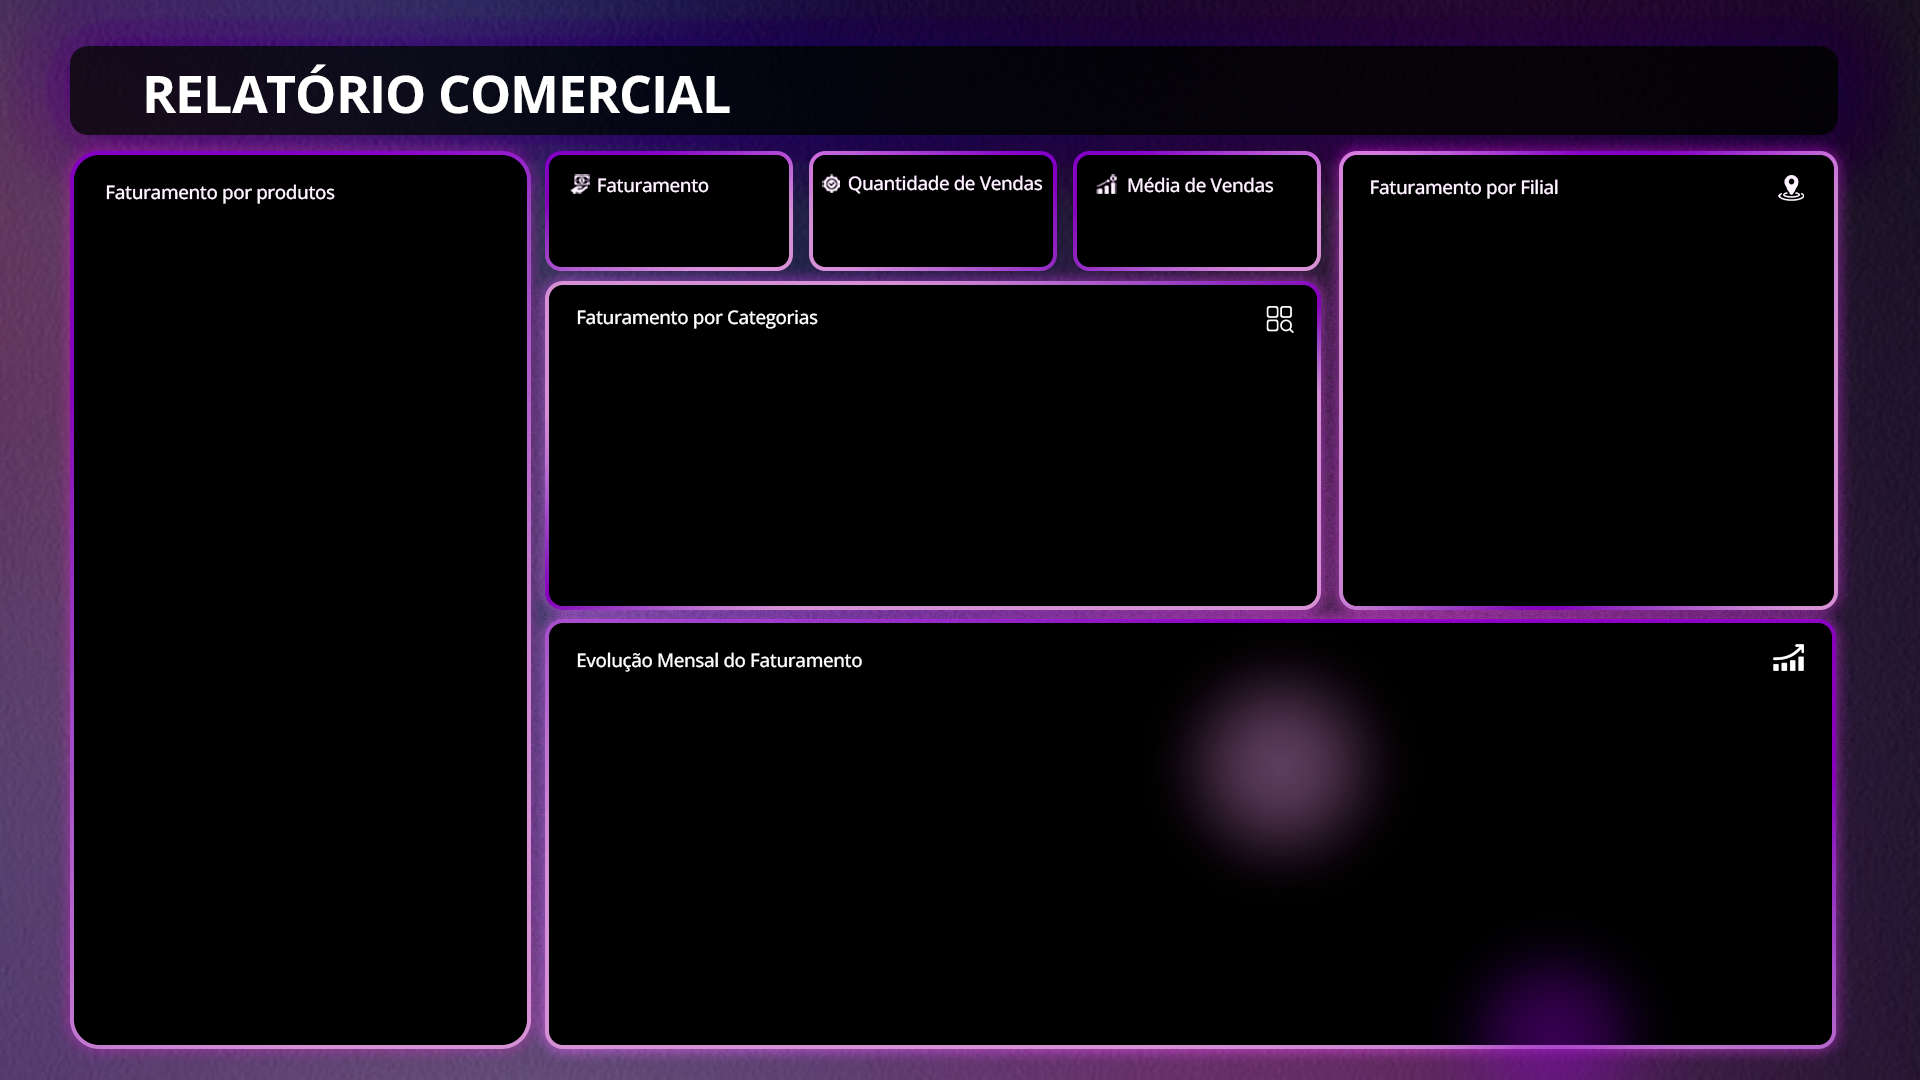

The dashboard page shown, as its layout file describes it:
{"tool":"powerbi","page":{"name":"Página 1","canvas":[1280,720],"ordinal":0},"visuals":[{"type":"card","fields":{"Values":["Medidas.Qtd vendas"]},"box":[542.5,101.8,161.5,94.5],"z":0},{"type":"card","fields":{"Values":["Medidas.Média de vendas"]},"box":[683.6,101.8,215.3,94.5],"z":1000},{"type":"clusteredBarChart","fields":{"Category":["Vendas.Produto"],"Y":["Medidas.Faturamento"]},"box":[37.8,135.3,336,558.5],"z":2000},{"type":"clusteredBarChart","fields":{"Category":["Vendas.Filial"],"Y":["Medidas.Faturamento"]},"box":[899.4,134.7,316.6,267.8],"z":3000},{"type":"areaChart","fields":{"Y":["Medidas.Faturamento"],"Category":["dCalendario.Nome do mês"]},"box":[373.8,414.5,852.4,279.3],"z":4000},{"type":"ribbonChart","fields":{"Category":["dCalendario.Trimestre"],"Y":["Medidas.Faturamento"],"Series":["Vendas.Categoria"]},"box":[373.9,222.3,500.2,180.2],"z":5000},{"type":"card","fields":{"Values":["Medidas.Faturamento"]},"box":[353.5,101.8,184.7,94.5],"z":6000},{"type":"slicer","fields":{"Values":["Vendas.Gerente"]},"box":[817.5,29.1,203.6,62.5],"z":6001},{"type":"slicer","fields":{"Values":["dCalendario.Ano"]},"box":[1021.1,29.1,203.6,62.5],"z":6002}]}

Visuals, with their boxes in screenshot pixels (x1, y1, x2, y2), scaled from the page's 1280x720 canvas onto the 1920x1080 screenshot:
card - Medidas.Qtd vendas: left=814, top=153, right=1056, bottom=294
card - Medidas.Média de vendas: left=1025, top=153, right=1348, bottom=294
clusteredBarChart - Vendas.Produto x Medidas.Faturamento: left=57, top=203, right=561, bottom=1041
clusteredBarChart - Vendas.Filial x Medidas.Faturamento: left=1349, top=202, right=1824, bottom=604
areaChart - Medidas.Faturamento x dCalendario.Nome do mês: left=561, top=622, right=1839, bottom=1041
ribbonChart - dCalendario.Trimestre x Medidas.Faturamento: left=561, top=333, right=1311, bottom=604
card - Medidas.Faturamento: left=530, top=153, right=807, bottom=294
slicer - Vendas.Gerente: left=1226, top=44, right=1532, bottom=137
slicer - dCalendario.Ano: left=1532, top=44, right=1837, bottom=137
